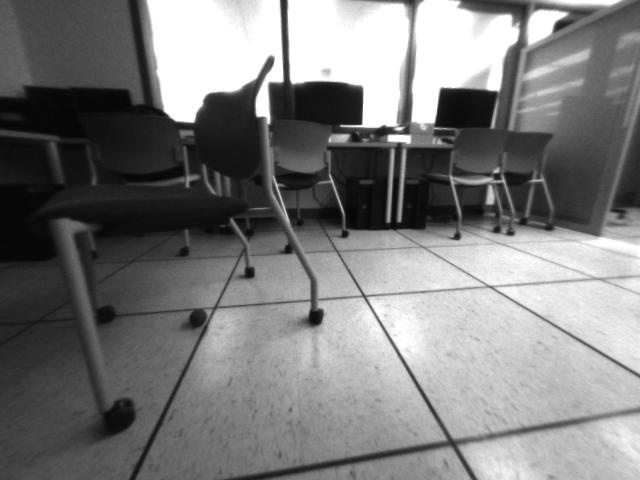dogtoy: (184, 304, 214, 332)
